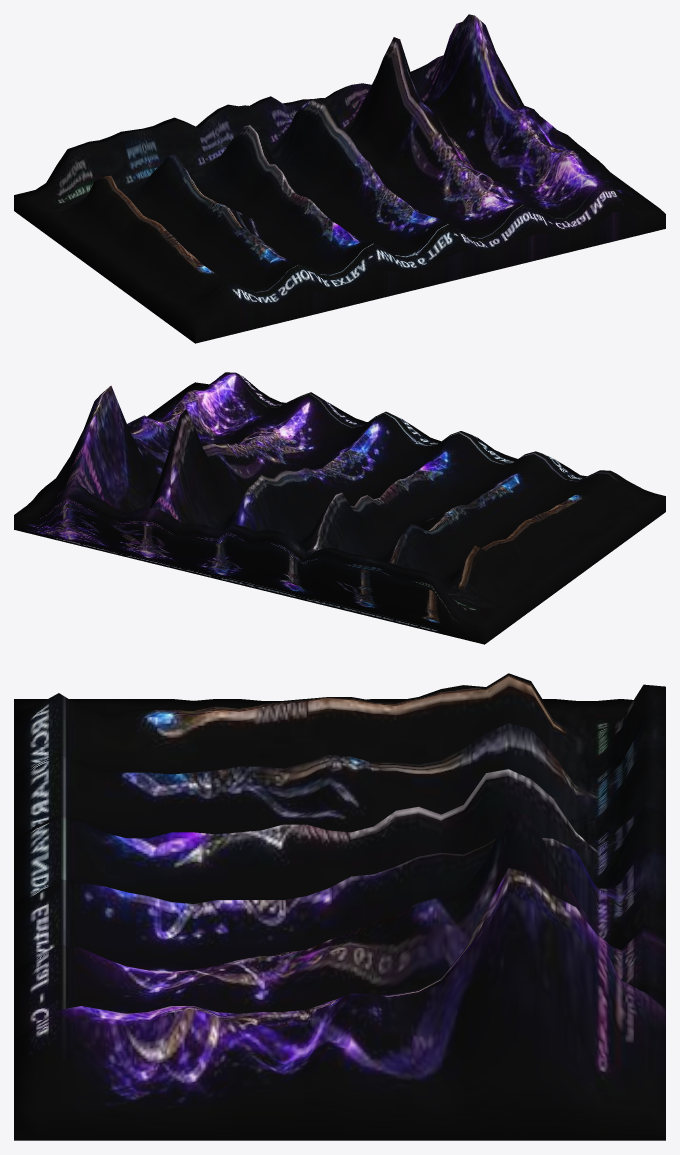
The model's file is EXTRA_Wands_6Tier.glb.
3 renders of one model, top to bottom at view 1: azimuth 30°, elevation 25°; view 2: azimuth 150°, elevation 25°; view 3: azimuth 270°, elevation 25°, orthographic. The views are drawn at different scales.
Parts seen in each view (by area): view 1: EXTRA_Wands_6Tier; view 2: EXTRA_Wands_6Tier; view 3: EXTRA_Wands_6Tier.
Part boxes in pixels (x1,y1,x2,y2): EXTRA_Wands_6Tier: (14, 14, 665, 343); EXTRA_Wands_6Tier: (14, 372, 665, 644); EXTRA_Wands_6Tier: (14, 673, 665, 1140).
Size of the model in its own units: 2 by 0.51 by 1.33.
Materials: 1 (1 with a texture image).
